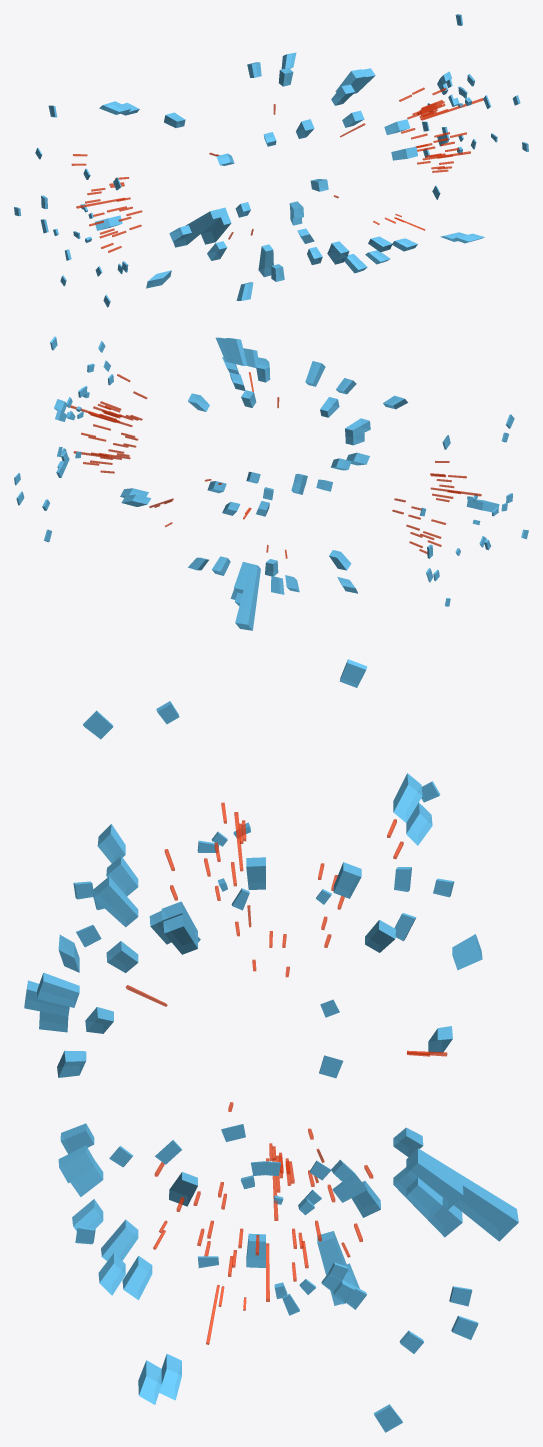
File: Event_31209032_calo.fbx
3 views of the same model, one above another, from view 1: azimuth 30°, elevation 25°; view 2: azimuth 150°, elevation 25°; view 3: azimuth 270°, elevation 25° (orthographic). The views are drawn at different scales.
Visible parts, largest first — view 1: Model; view 2: Model; view 3: Model.
Part boxes in pixels (x1,y1,x2,y2): Model: (14,14,528,307); Model: (14,336,528,630); Model: (24,659,518,1432).
Size of the model in its own units: 22.66 by 11.34 by 11.48.
